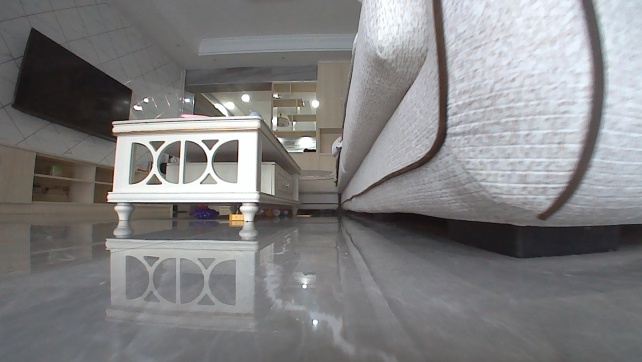TV_stand1: (0, 144, 114, 215)
plastic_toy: (189, 206, 223, 220), (225, 212, 244, 224)
sofa: (296, 0, 641, 241)
tea_table: (104, 112, 302, 226)
